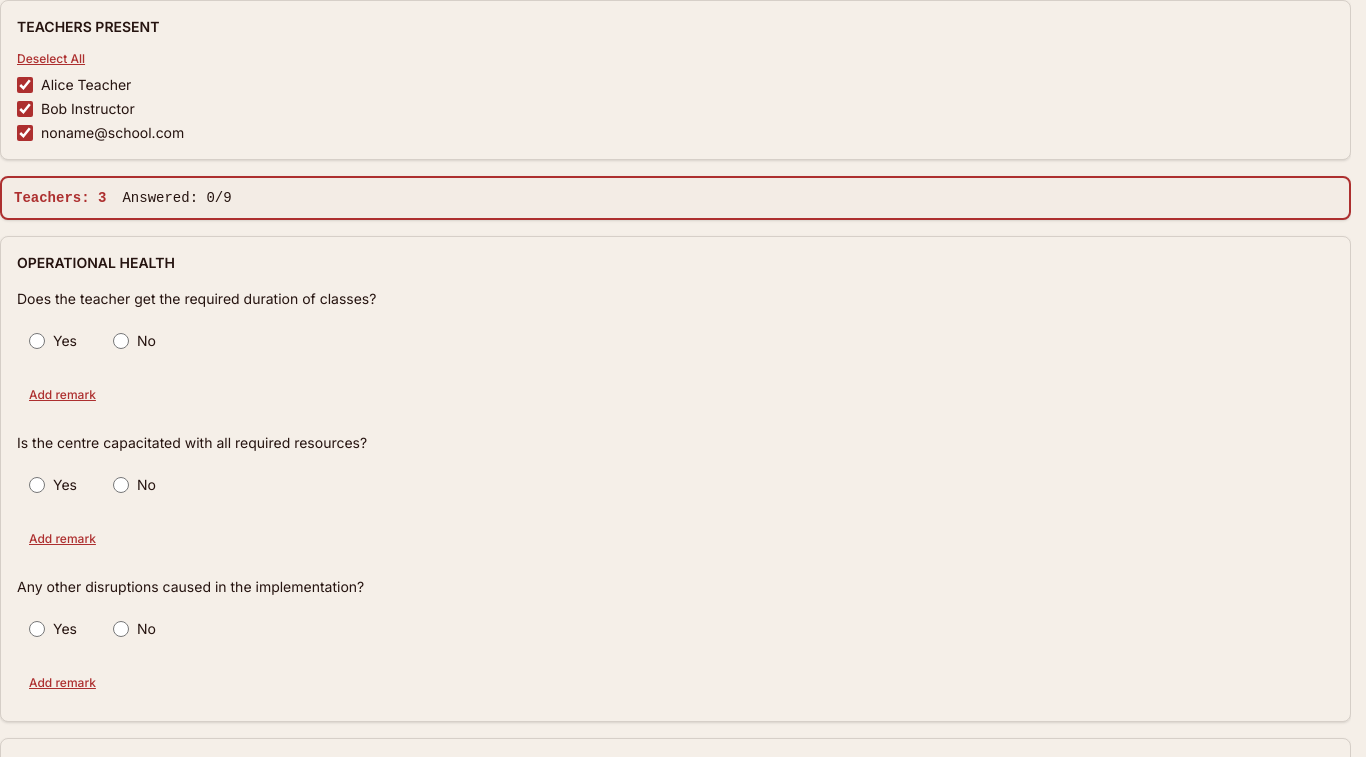
Test: AFTeamInteractionForm › teacher interaction › Deselect All clears all fetched teachers
Step 1. Click the button with test id "af-team-select-all" → x=51, y=59, box [17,51,85,67]
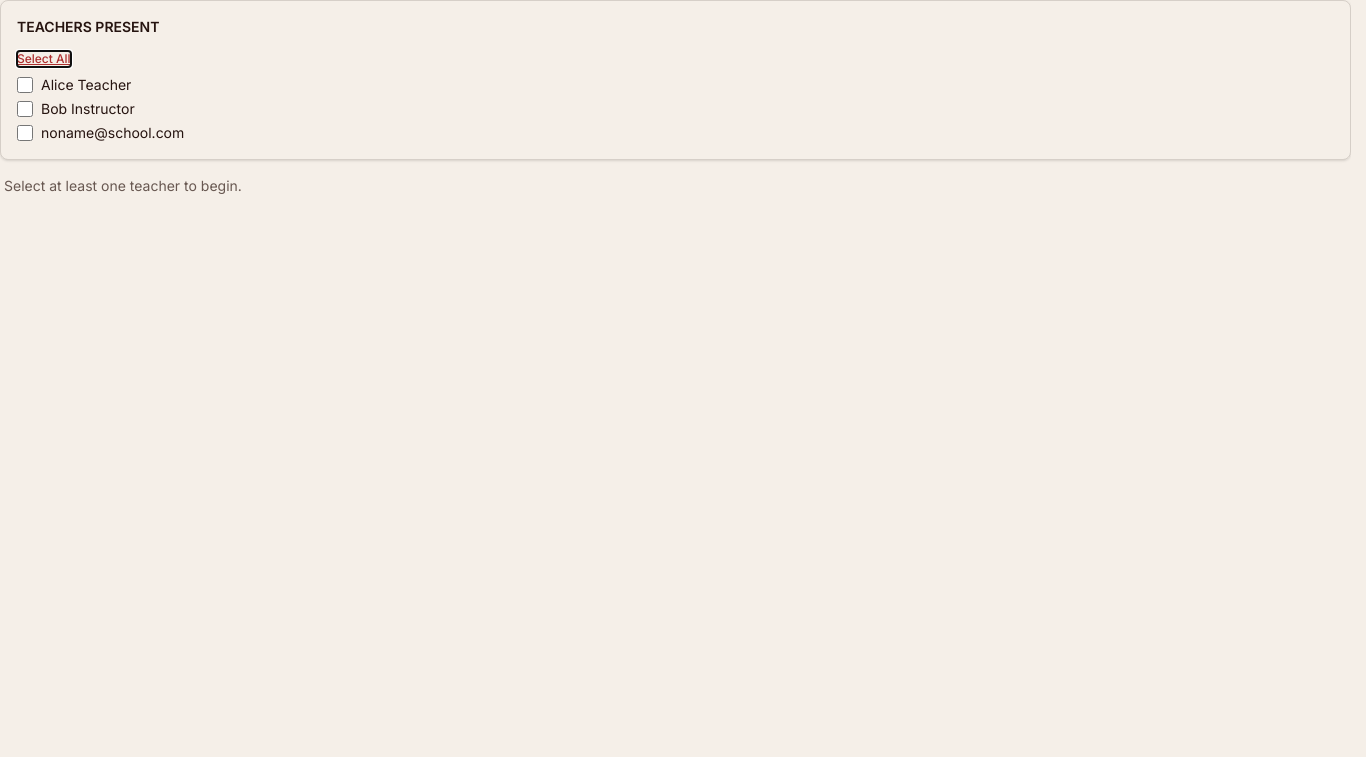
Check: the checkbox with test id "af-team-teacher-1" is not checked, box [17,77,33,93]
Check: the checkbox with test id "af-team-teacher-2" is not checked, box [17,101,33,117]
Check: the checkbox with test id "af-team-teacher-3" is not checked, box [17,125,33,141]
